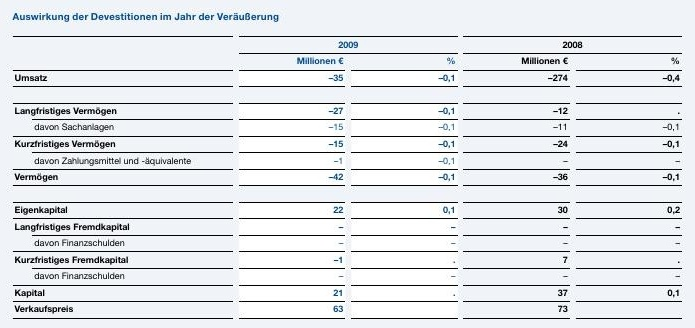table: (0, 0, 695, 328)
